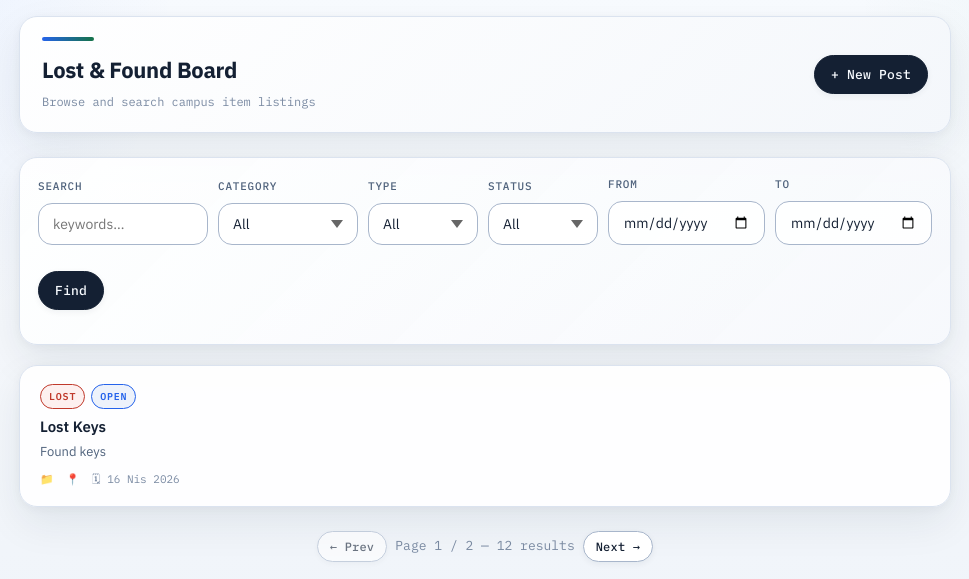
it: SearchPage component › loads next page when pagination button is clicked
Expected: the text "Lost Keys" is shown, x1=40 y1=417 x2=106 y2=436
Step 1. Click the button "Next →" → click(618, 546), box x1=583 y1=531 x2=653 y2=562
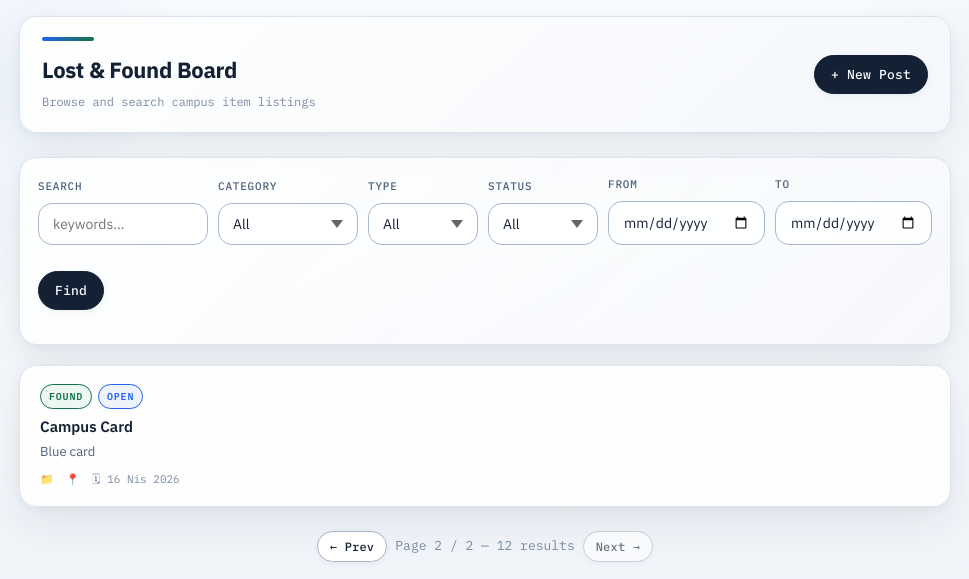
Result: the text "Campus Card" is shown at x1=40 y1=417 x2=133 y2=436
